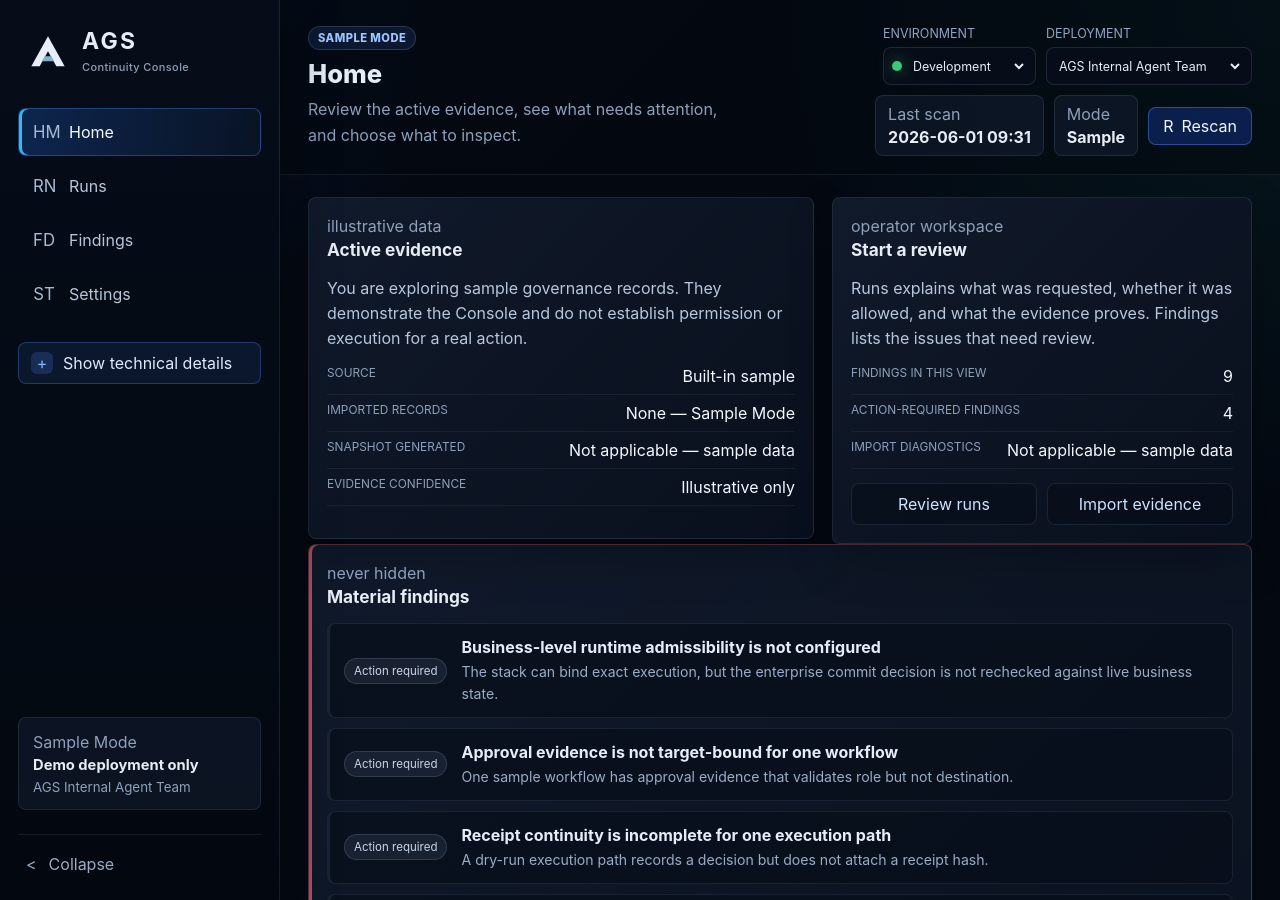
Test case: Continuity Console operator shell › defaults to simple navigation and reveals every technical page on request
Expected: the button "Home" is shown, [18,108,261,156]
Expected: the button "Runs" is shown, [18,162,261,210]
Step 1. Click the button "+ Show technical details" → click(140, 363), box [18,342,261,384]
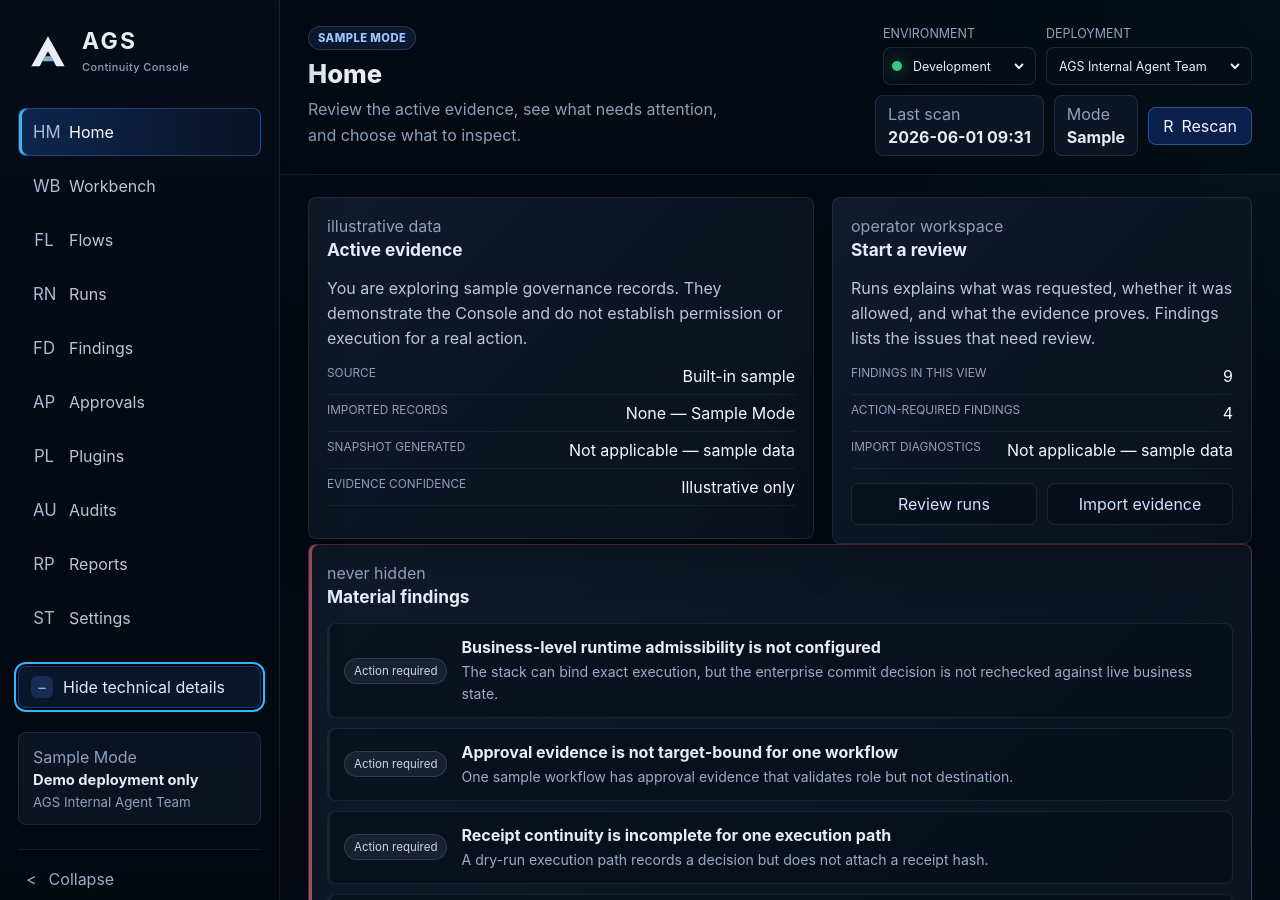
Now the button "Workbench" is shown, box [18,162,261,210]
Now the button "Flows" is shown, box [18,216,261,264]
Now the button "Approvals" is shown, box [18,378,261,426]
